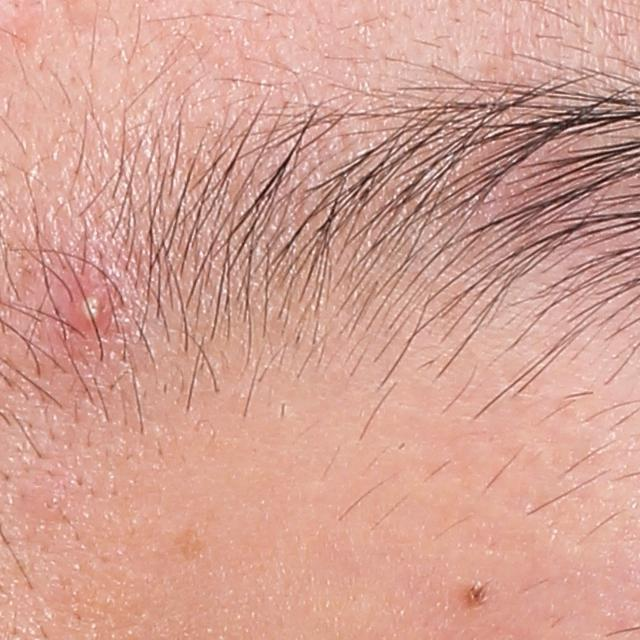nevus: (461, 577, 487, 609)
pustule: (60, 274, 119, 340)
